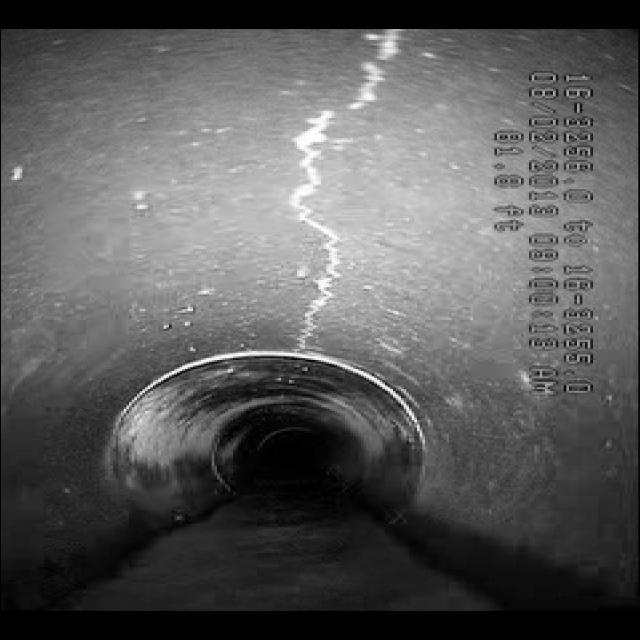Crack: (254, 121, 384, 327)
